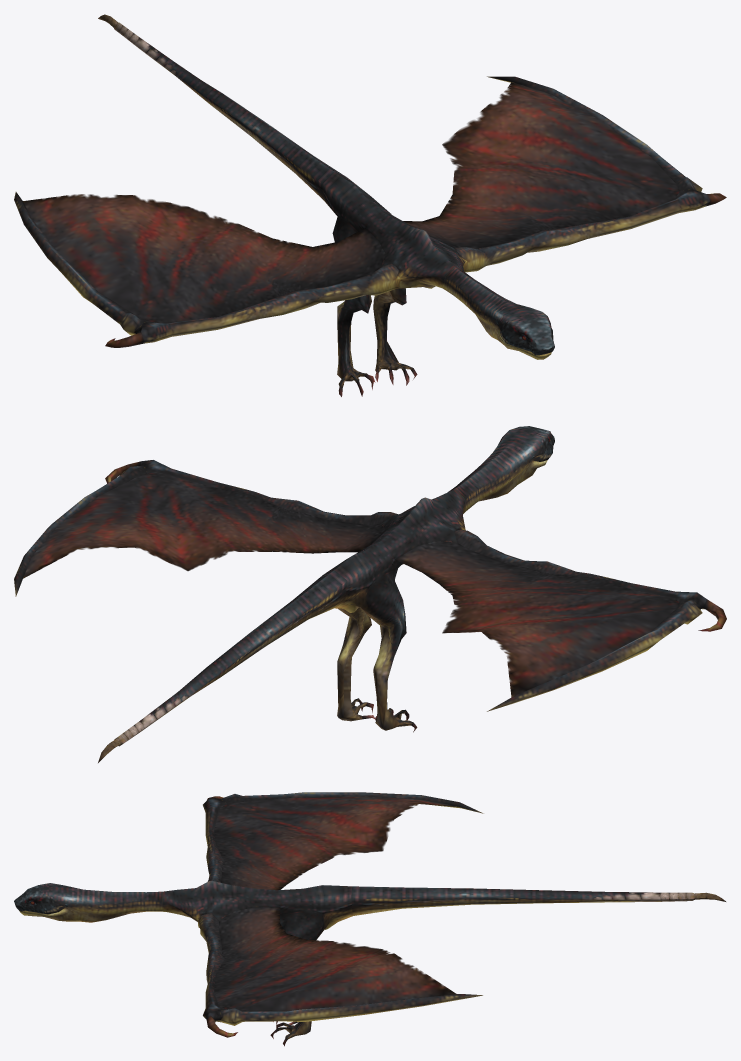
File: remobra.glb
3 renders of one model, top to bottom at view 1: azimuth 30°, elevation 25°; view 2: azimuth 150°, elevation 25°; view 3: azimuth 270°, elevation 25°, orthographic. The views are drawn at different scales.
Visible parts, largest first — view 1: em63-0001-5, em63-0001-0, em63-0001-1, em63-0001-6, em63-0001-4, em63-0001-2; view 2: em63-0001-5, em63-0001-0, em63-0001-1, em63-0001-2, em63-0001-6, em63-0001-4; view 3: em63-0001-5, em63-0001-0, em63-0001-6, em63-0001-1, em63-0001-4, em63-0001-2.
Part boxes in pixels (x1,y1,x2,y2): em63-0001-5: [23, 82, 679, 323]; em63-0001-0: [14, 76, 726, 347]; em63-0001-1: [323, 172, 467, 288]; em63-0001-6: [98, 14, 345, 200]; em63-0001-4: [443, 267, 554, 359]; em63-0001-2: [332, 217, 417, 396]; em63-0001-5: [23, 473, 679, 697]; em63-0001-0: [14, 460, 726, 711]; em63-0001-1: [324, 489, 466, 612]; em63-0001-2: [337, 568, 417, 732]; em63-0001-6: [98, 570, 347, 762]; em63-0001-4: [448, 426, 554, 510]; em63-0001-5: [214, 796, 457, 1010]; em63-0001-0: [199, 792, 483, 1037]; em63-0001-6: [351, 886, 725, 915]; em63-0001-1: [162, 881, 352, 929]; em63-0001-4: [14, 883, 162, 922]; em63-0001-2: [270, 911, 326, 1046].
Bounding box in the file's own units: 1283 × 383 × 1625.
2 materials, 2 textured.
